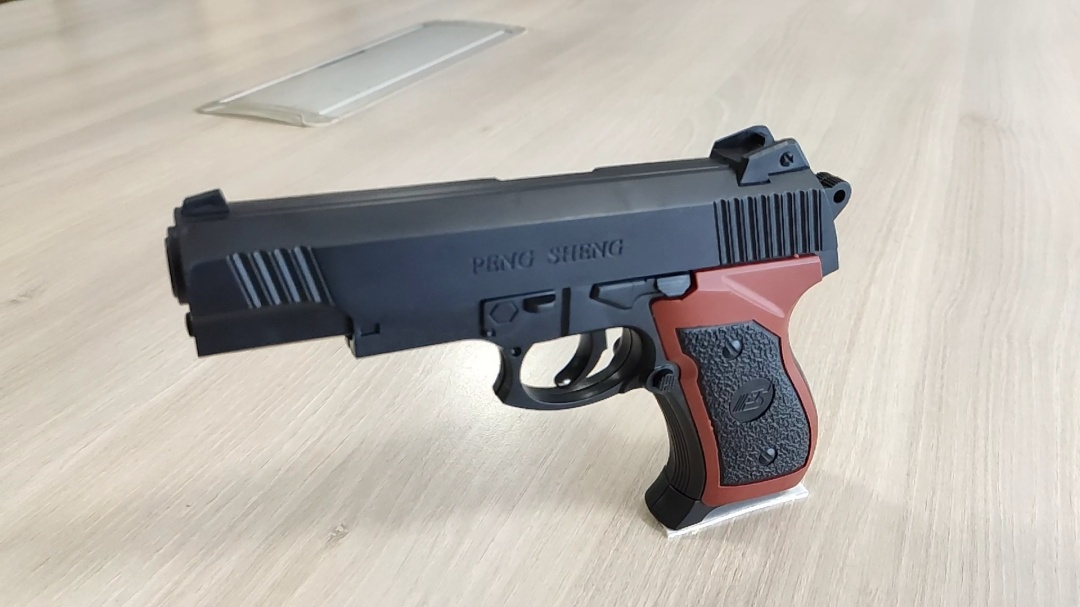gun: (312, 264, 378, 307)
